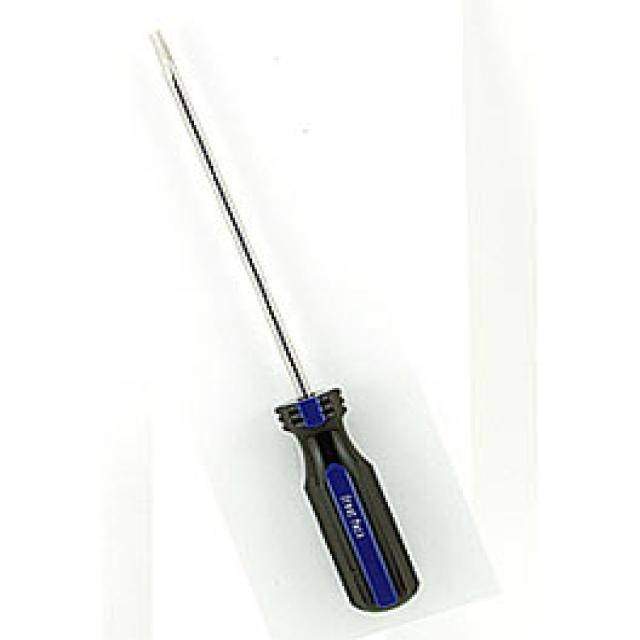Screwdriver: (152, 31, 418, 611)
